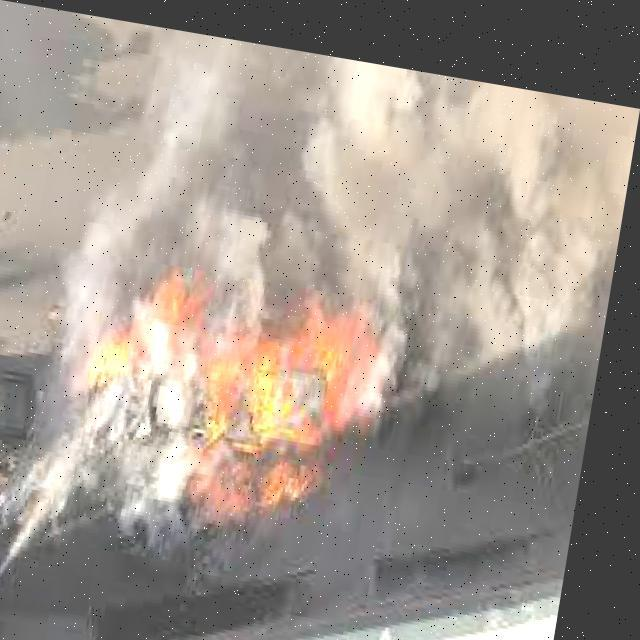Fire: (86, 210, 417, 538)
